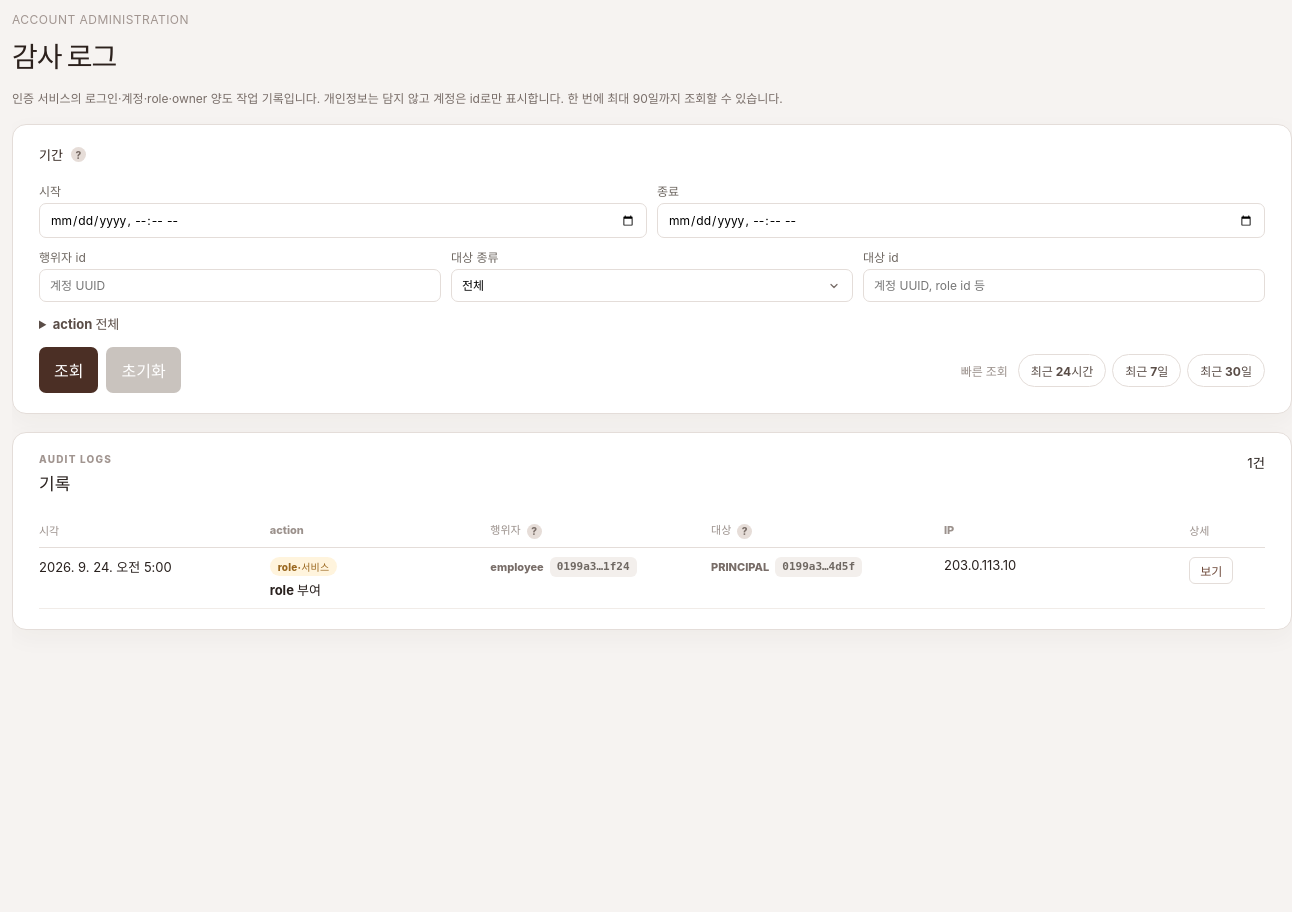
Test: AuditLogsPage › 대상 머리글의 "?" 배지에 올리면 대상이 무엇인지 종류와 함께 설명이 뜬다
Hover over the picture named "대상 설명" at (745, 531), box x1=737 y1=524 x2=752 y2=538
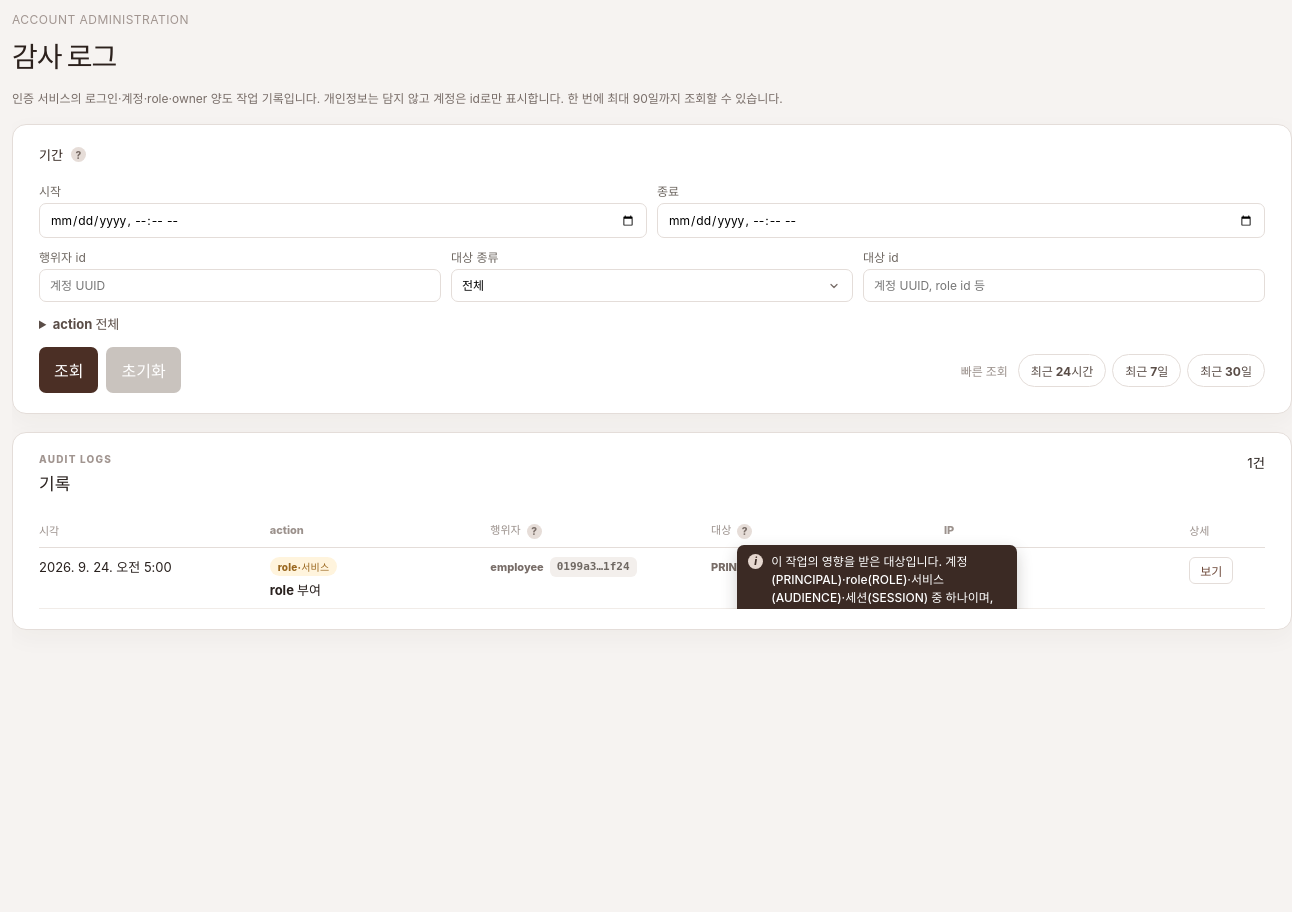
Now the tooltip shows "이 작업의 영향을 받은 대상입니다.", box x1=771 y1=554 x2=998 y2=608
Now the tooltip shows "PRINCIPAL", box x1=771 y1=554 x2=998 y2=608
Now the tooltip shows "본인에게 한 작업은 행위자와 같습니다", box x1=771 y1=554 x2=998 y2=608
